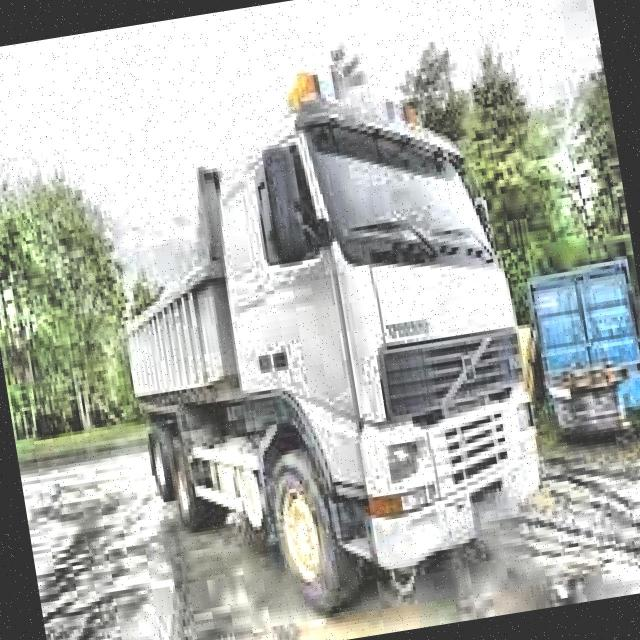dump_truck: (89, 50, 561, 638)
